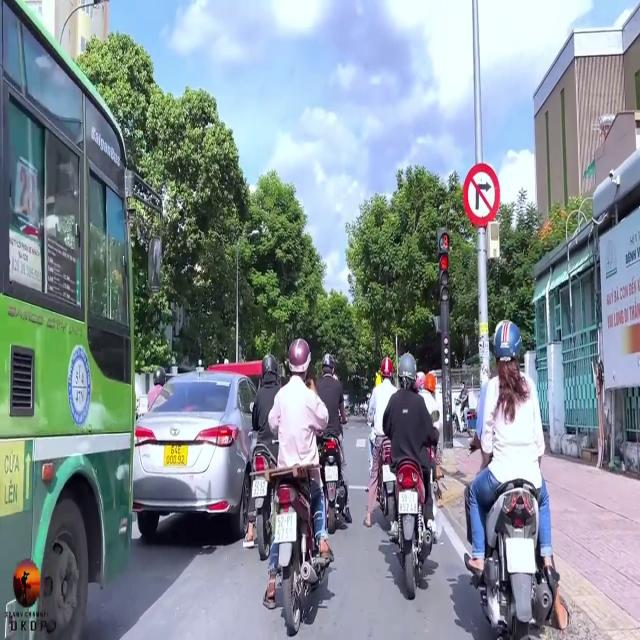bien_trang: (270, 514, 299, 544)
bien_vang: (163, 442, 188, 469)
